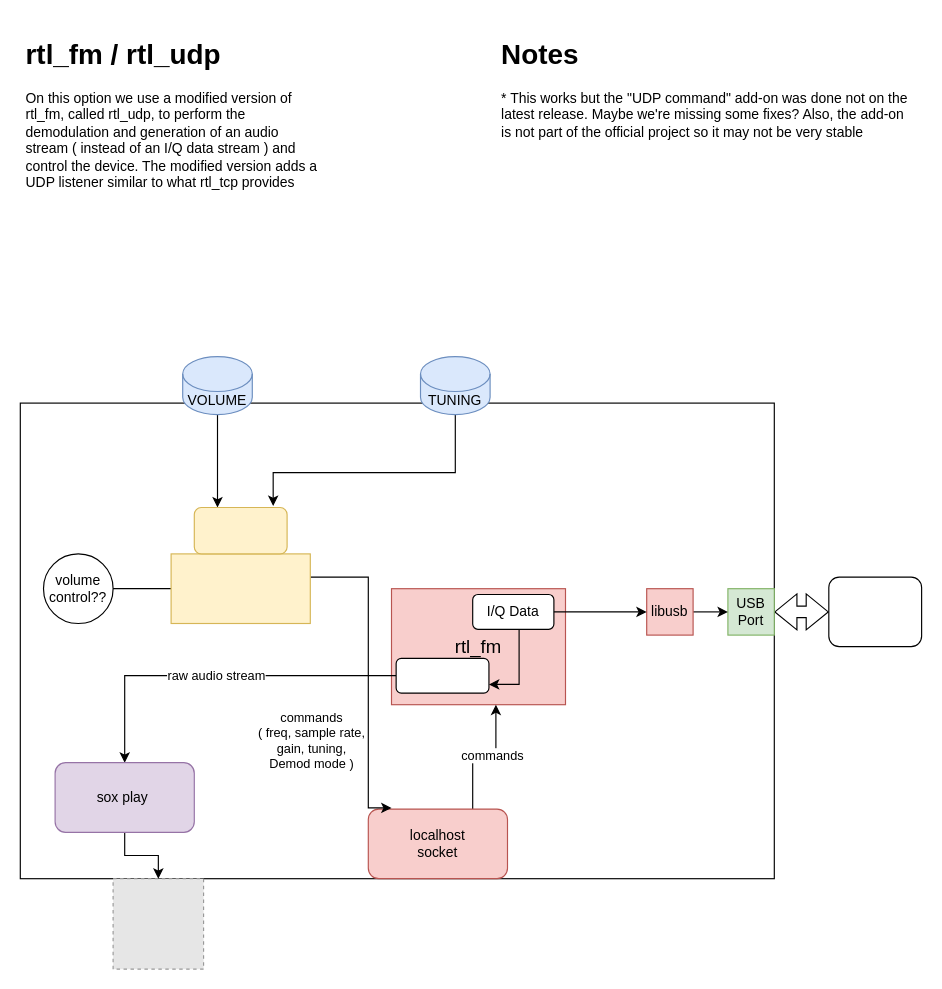
The diagram is 942 pixels wide and 989 high, and some of its shapes have lost their labels. Grey dashed boxes stand in for pictures. The shapes that lost their labels are listed below. From the top down, each one's centre as x and y in pixels, then its label:
At (x=240, y=530): "rotary knob potentiometer I/O".
At (x=240, y=588): "fin radio app".
At (x=875, y=611): "rtl-sdr USB dongle".
At (x=442, y=675): "Demodulator".
